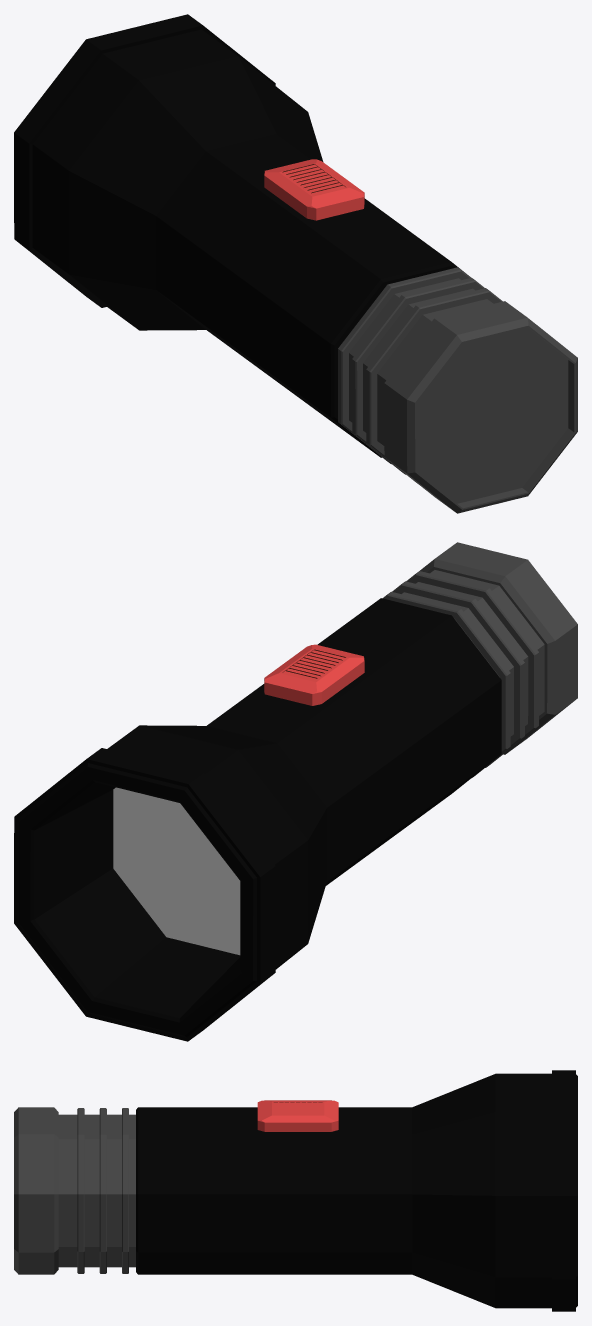
File: Flashlight.fbx
The picture shows the model from 3 angles, top to bottom: view 1: azimuth 30°, elevation 25°; view 2: azimuth 150°, elevation 25°; view 3: azimuth 270°, elevation 25°; orthographic projection. The views are drawn at different scales.
Visible parts, largest first — view 1: Base, Back, Button; view 2: Base, Back, Glass, Button; view 3: Base, Back, Button.
Boxes of the visible parts, x1,y1,x2,y2 form: Base: (14, 14, 470, 457); Back: (338, 267, 577, 513); Button: (264, 159, 364, 220); Base: (14, 598, 501, 1041); Back: (382, 542, 577, 777); Glass: (113, 787, 240, 955); Button: (264, 644, 364, 705); Base: (136, 1070, 577, 1311); Back: (14, 1107, 135, 1274); Button: (257, 1100, 338, 1131).
Bounding box in the file's own units: 93.23 × 93.23 × 236.
